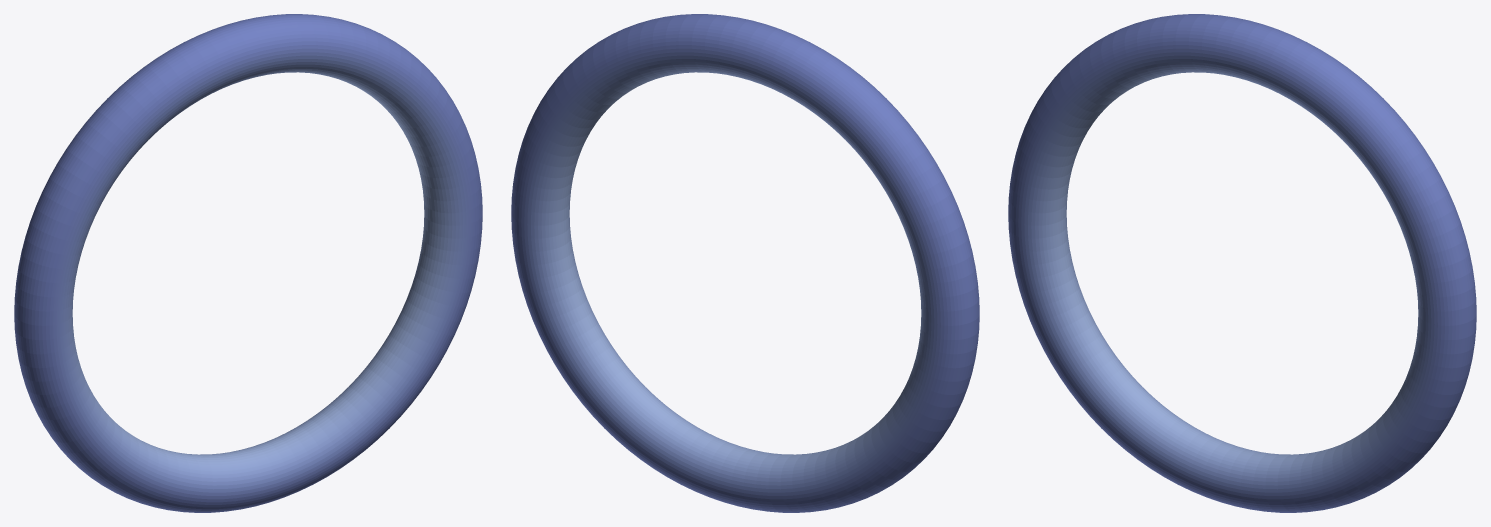
3 views of the same model, side by side, from view 1: azimuth 30°, elevation 25°; view 2: azimuth 150°, elevation 25°; view 3: azimuth 330°, elevation 25° (orthographic).
Parts seen in each view (by area): view 1: world; view 2: world; view 3: world.
Part boxes in pixels (x1,y1,x2,y2): world: [14, 14, 482, 512]; world: [511, 14, 979, 512]; world: [1008, 14, 1476, 512].
Bounding box in the file's own units: 25.47 × 25.47 × 2.79.
